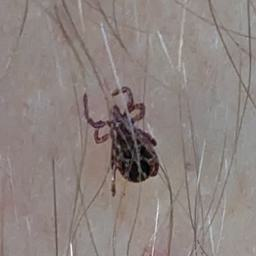Dermacentor variabilis: (81, 88, 162, 198)
